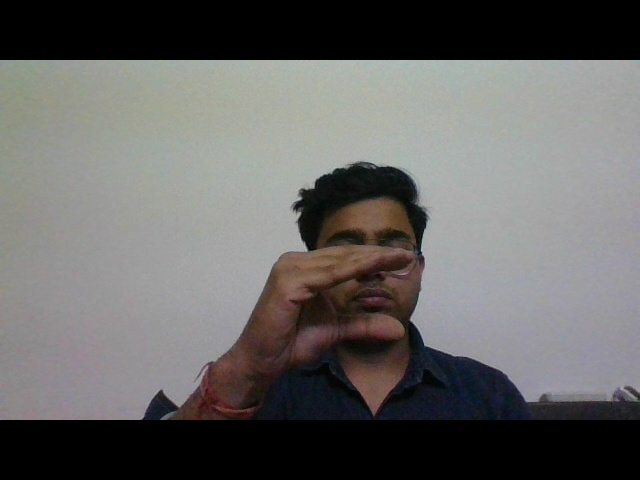no: (235, 238, 461, 396)
